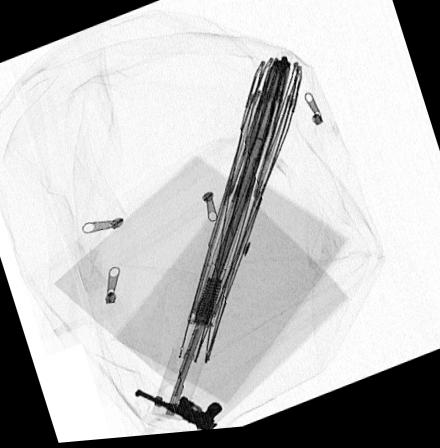Gun: (133, 390, 223, 434)
